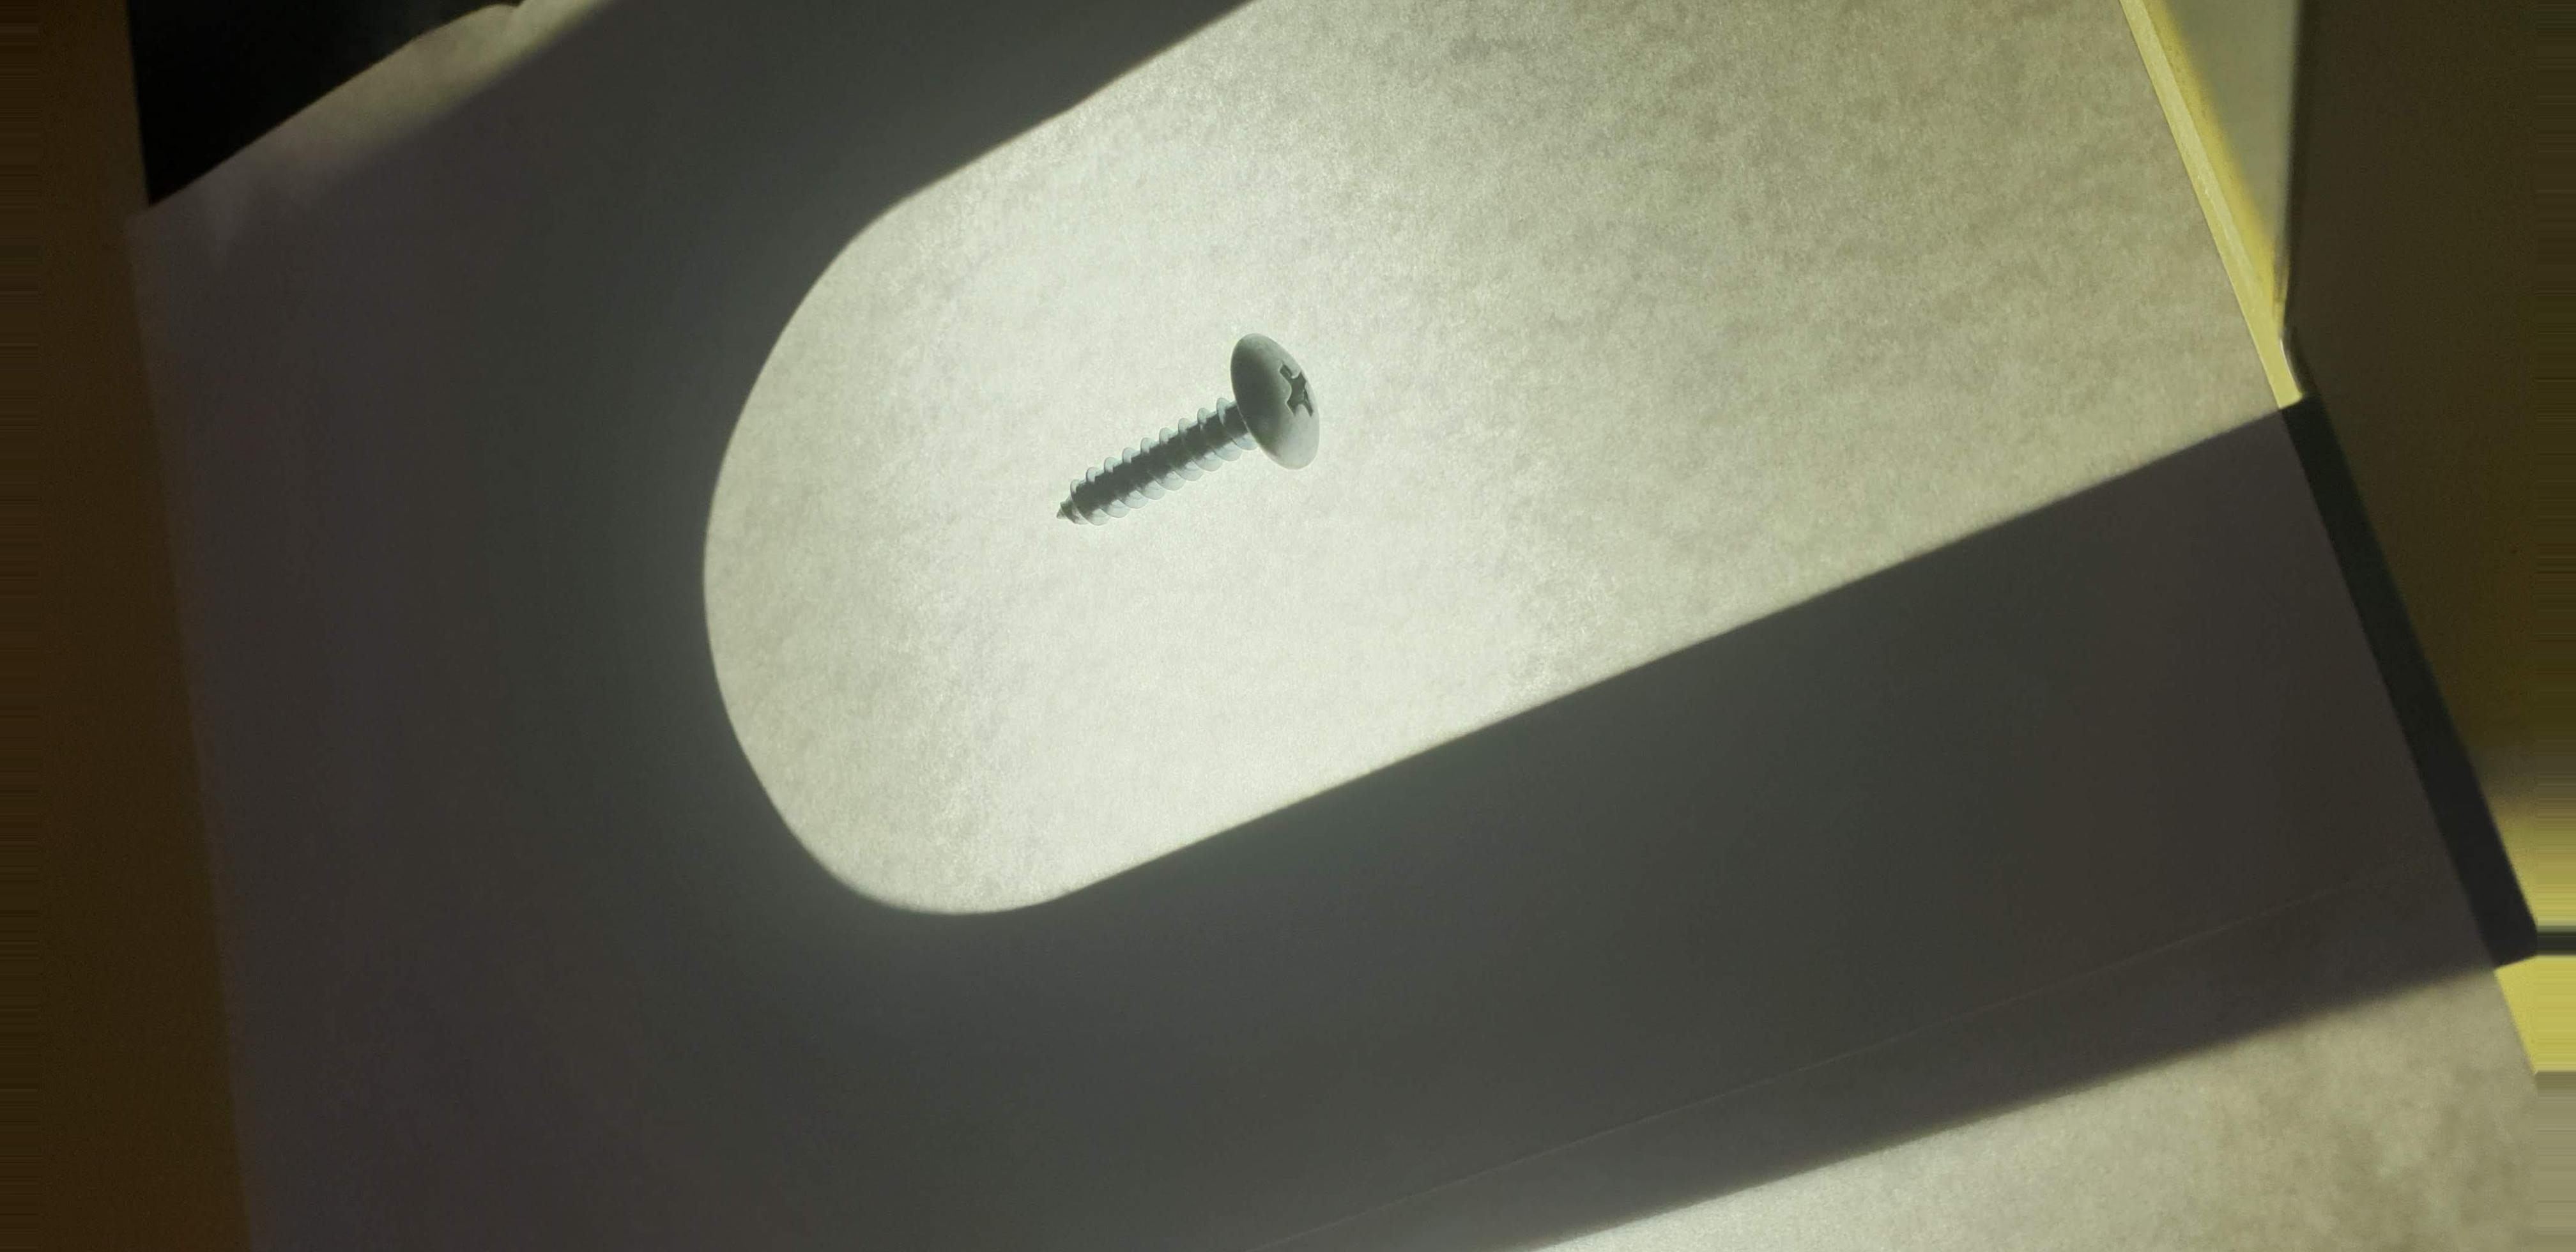S002: (1002, 324, 1377, 562)
